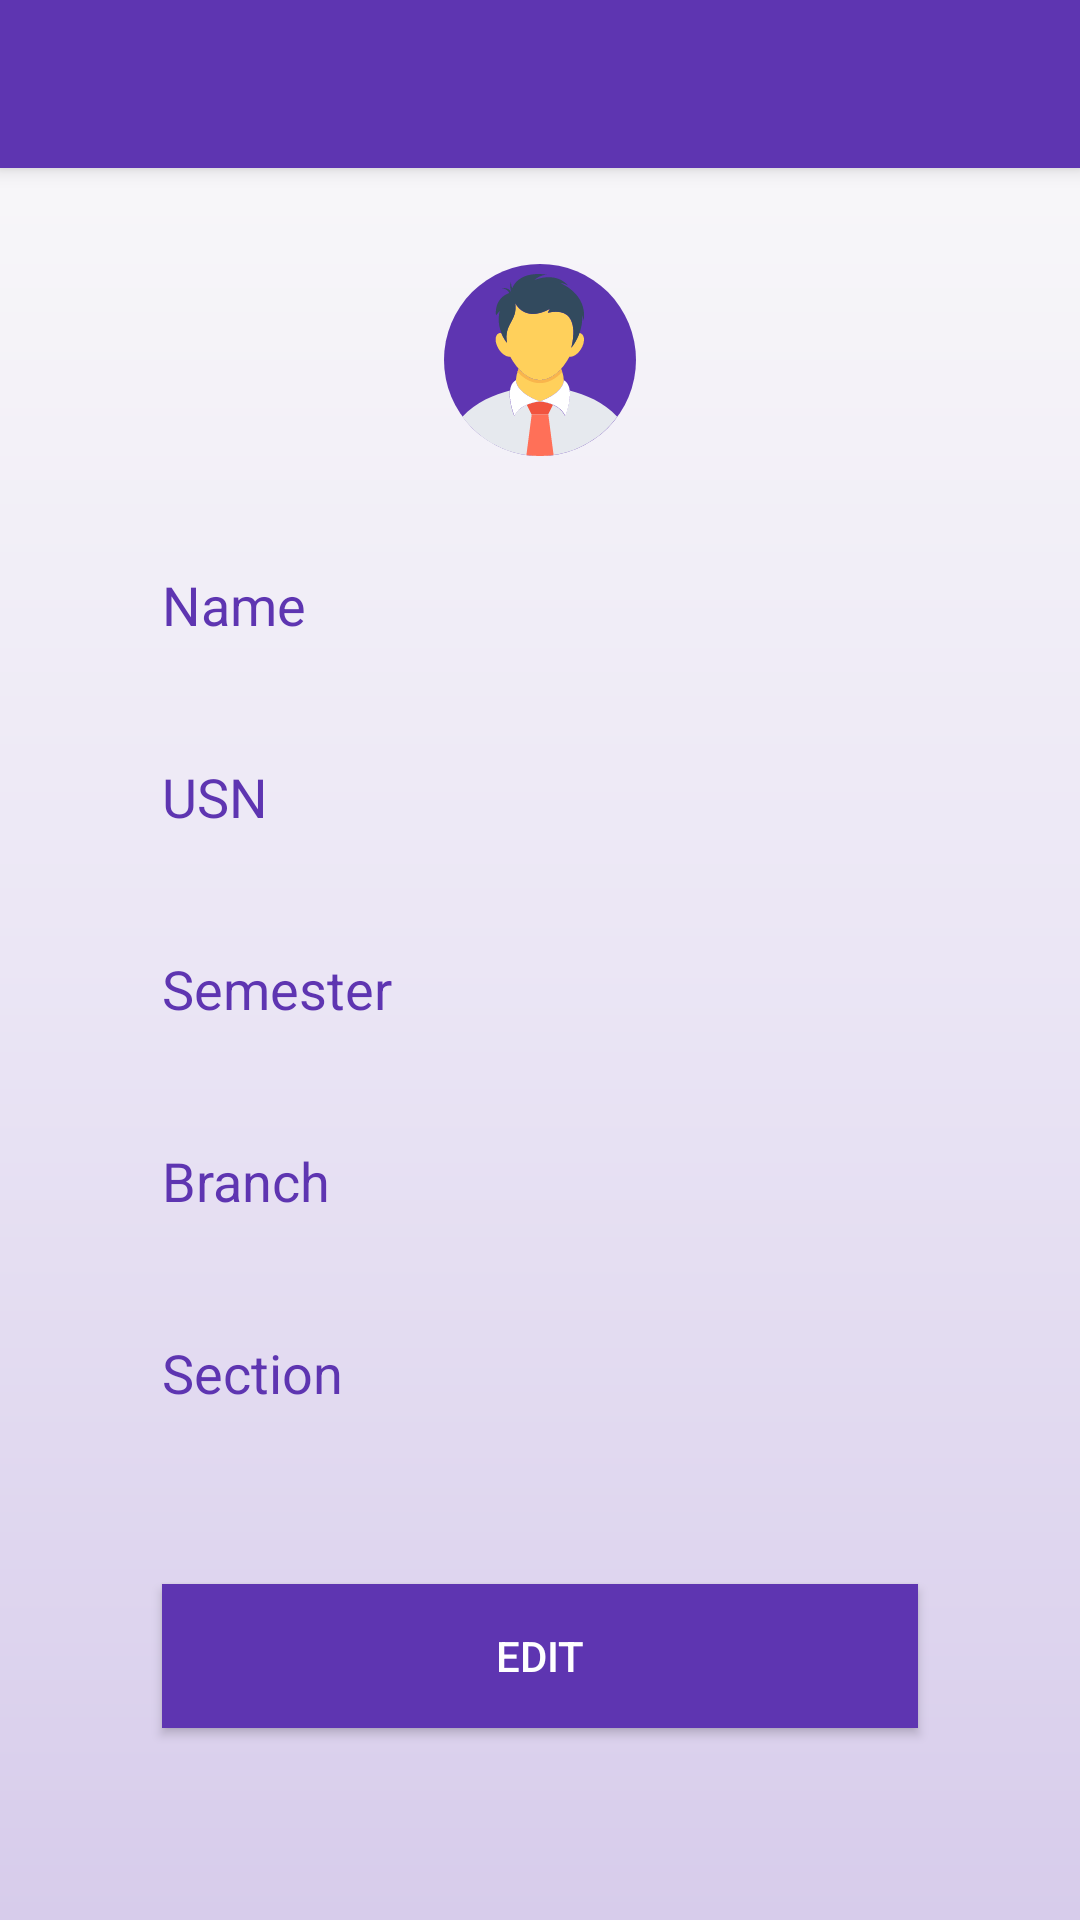

Screen size 1080*1920. Icon name, then its center in pixels as point (x, y):
user profile: point (540, 360)
